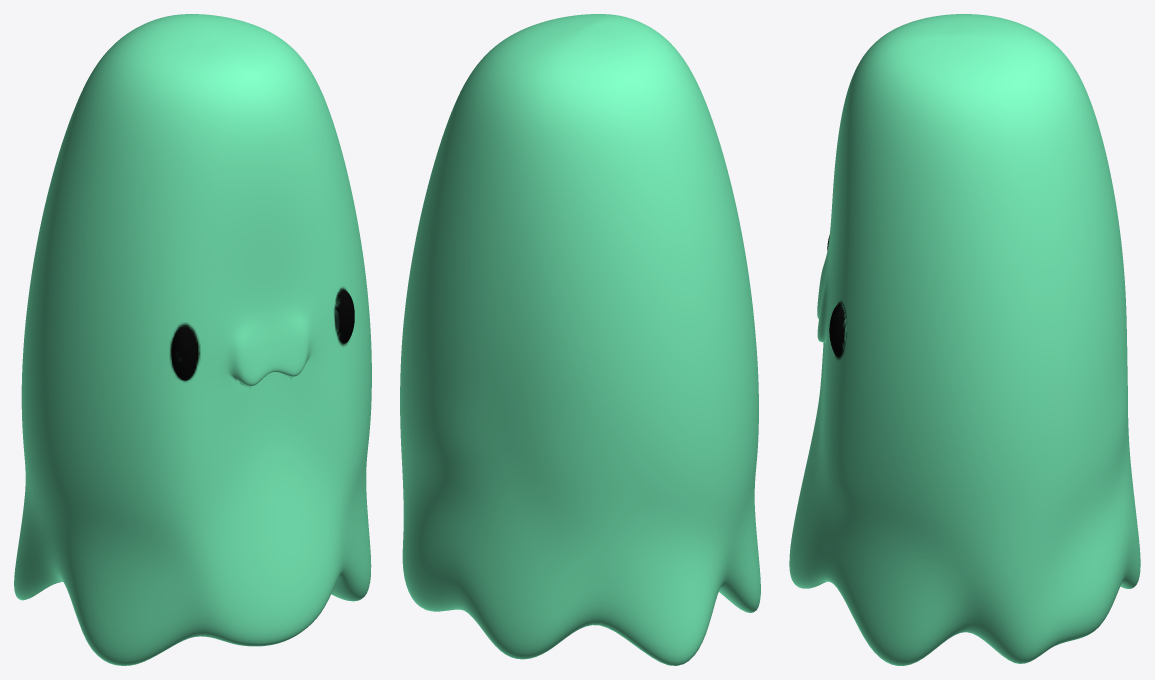
The model's file is Slime_Animation_test_1.fbx.
The picture shows the model from 3 angles, left to right: view 1: azimuth 30°, elevation 25°; view 2: azimuth 150°, elevation 25°; view 3: azimuth 270°, elevation 25°; orthographic projection.
Visible parts, largest first — view 1: pSphere4; view 2: pSphere4; view 3: pSphere4.
Part boxes in pixels (bbox=[...]): pSphere4: bbox=[14, 14, 371, 665]; pSphere4: bbox=[400, 14, 760, 665]; pSphere4: bbox=[789, 14, 1140, 665].
Bounding box in the file's own units: 11.36 × 19.66 × 10.88.
1 material, 1 textured.
